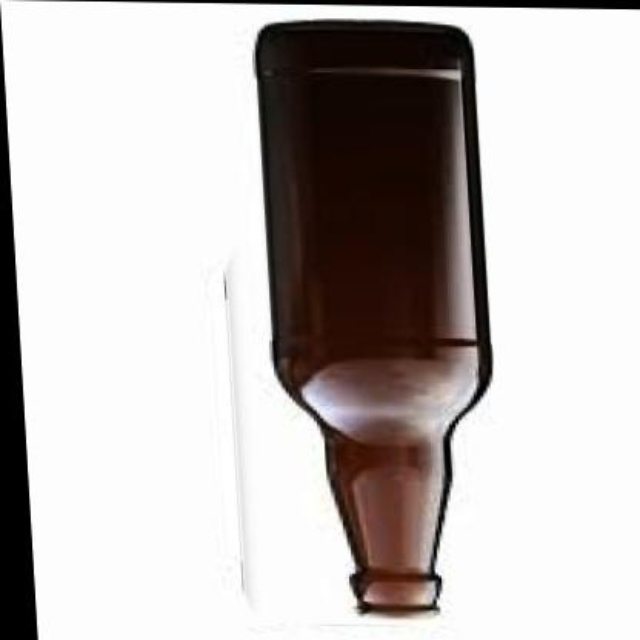trash: (257, 22, 491, 609)
